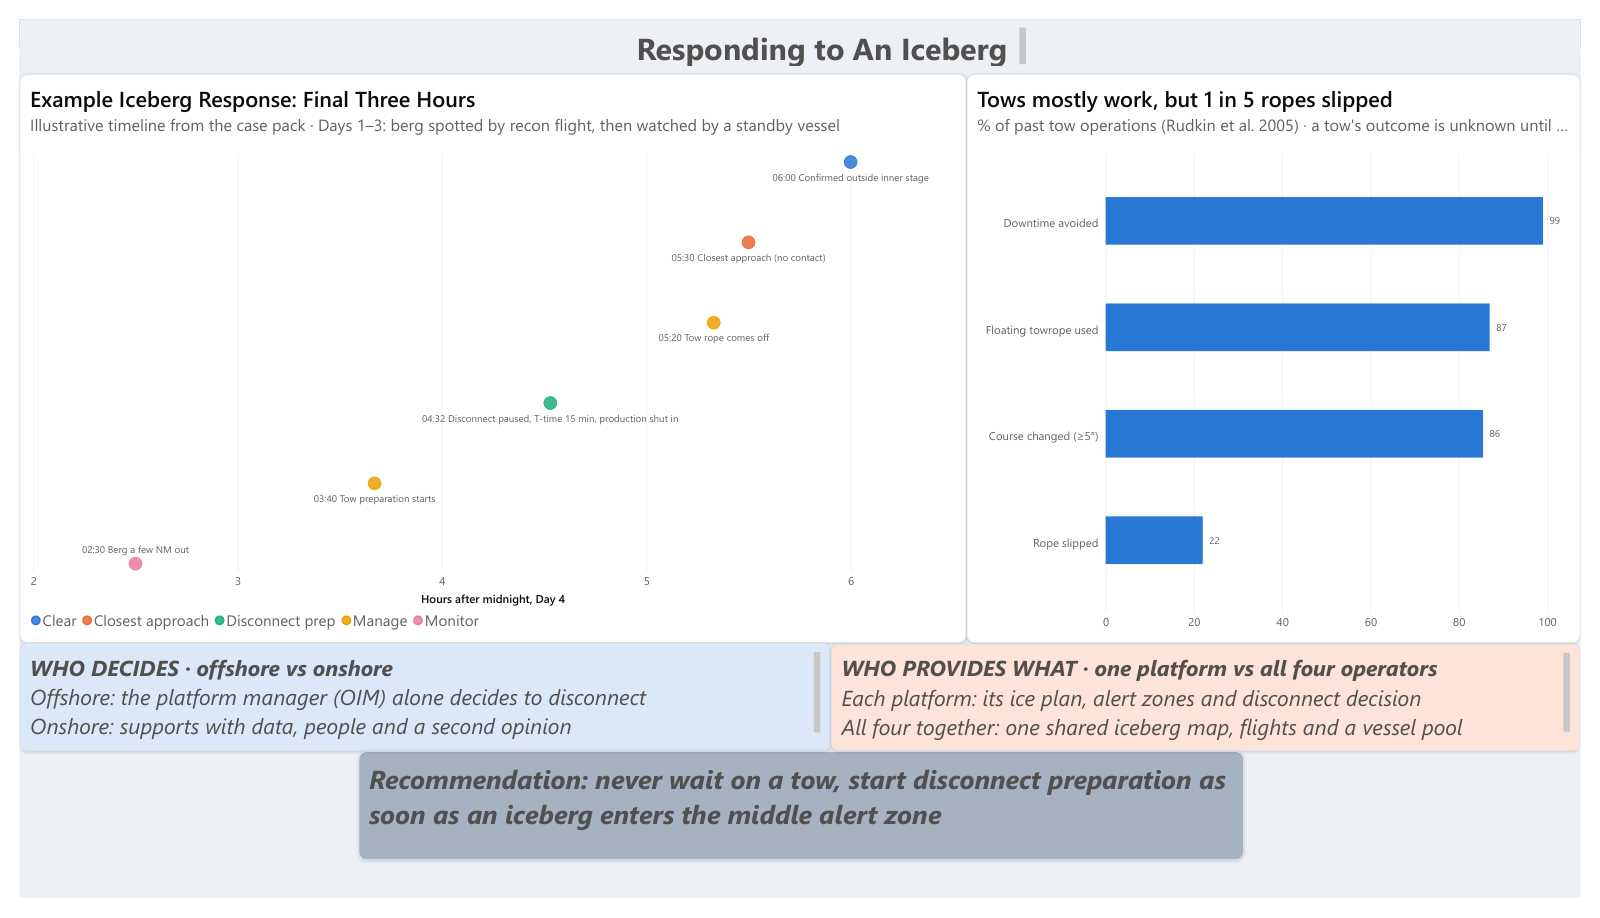

The page's visual inventory and layout, read from the dashboard file:
{"tool":"powerbi","page":{"name":"2 Response","canvas":[1920,1080],"ordinal":1},"visuals":[{"type":"textbox","box":[10,0,280,280],"z":0},{"type":"textbox","box":[746.7,0,503.3,66.7],"z":1},{"type":"scatterChart","title":"Example Iceberg Response: Final Three Hours","fields":{"Category":["s2_timeline.short_label"],"Series":["s2_timeline.phase"],"X":["Sum(s2_timeline.day4_clock_hours)"],"Y":["Sum(s2_timeline.step)"]},"box":[0,66.7,1165,700],"z":2},{"type":"clusteredBarChart","title":"Tows mostly work, but 1 in 5 ropes slipped","fields":{"Category":["s2_management_rates.Outcome Short"],"Y":["Sum(s2_management_rates.percent)"]},"box":[1165,66.7,755,700],"z":4},{"type":"textbox","box":[0,766.7,998.3,133.3],"z":5},{"type":"textbox","box":[998.3,768.3,921.7,131.7],"z":6},{"type":"textbox","box":[417.1,900,1088.6,134.3],"z":9}]}

Visuals, with their boxes in screenshot pixels (x1, y1, x2, y2), scaled from the page's 1920x1080 canvas onto the 1600x918 screenshot:
textbox: <bbox>8, 0, 242, 238</bbox>
textbox: <bbox>622, 0, 1042, 57</bbox>
"Example Iceberg Response: Final Three Hours" scatterChart: <bbox>0, 57, 971, 652</bbox>
"Tows mostly work, but 1 in 5 ropes slipped" clusteredBarChart: <bbox>971, 57, 1599, 652</bbox>
textbox: <bbox>0, 652, 832, 765</bbox>
textbox: <bbox>832, 653, 1599, 765</bbox>
textbox: <bbox>348, 765, 1255, 879</bbox>
